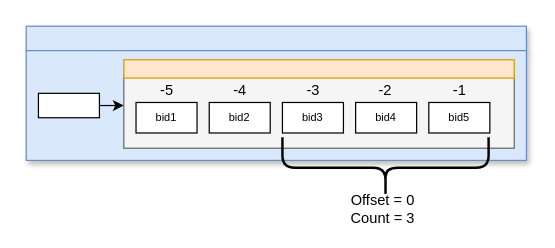
The diagram is 555 pixels wide and 248 high, and some of its shapes have lost their labels. Here are the shapes that lost their labels. From the top down, the centre of each, then its label:
At point 277,39: "Redis".
At point 318,68: "List".
At point 68,105: "history#a1".
